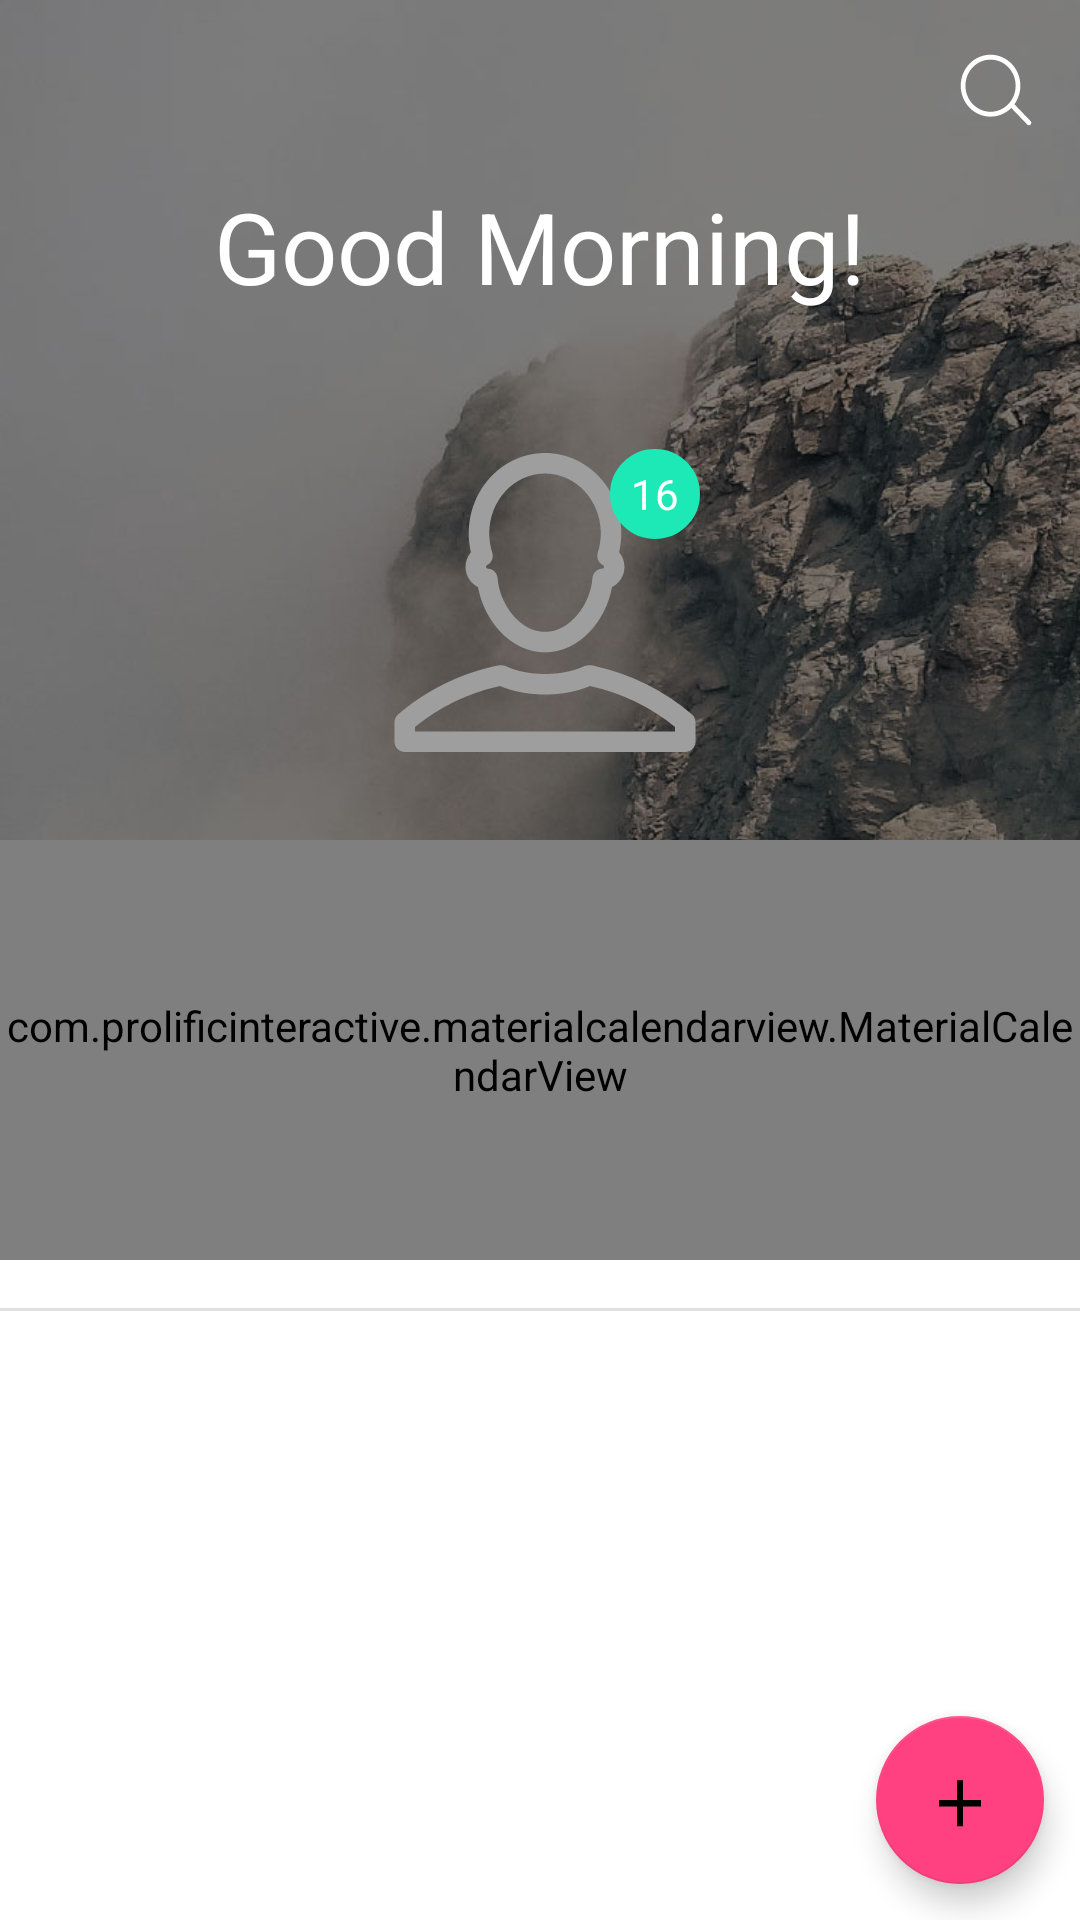

Icons on this 1080px×1920px Android screen, each with its box as [x1, y1, x2, y2]:
add: [876, 1716, 1044, 1884]
search: [960, 54, 1032, 126]
